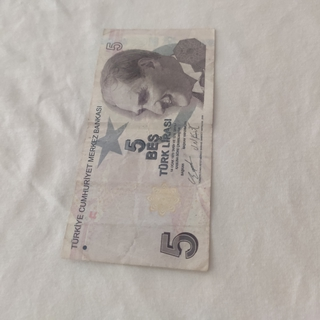5TLFront: (61, 27, 215, 273)
